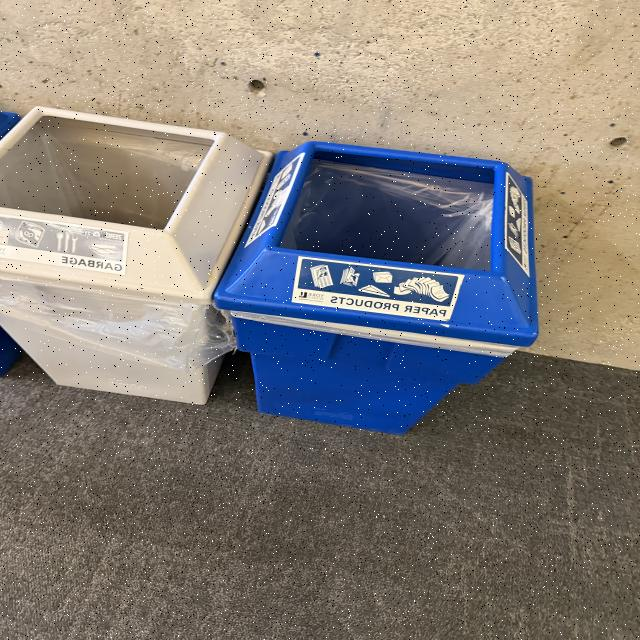Dustbin: (0, 102, 540, 438)
